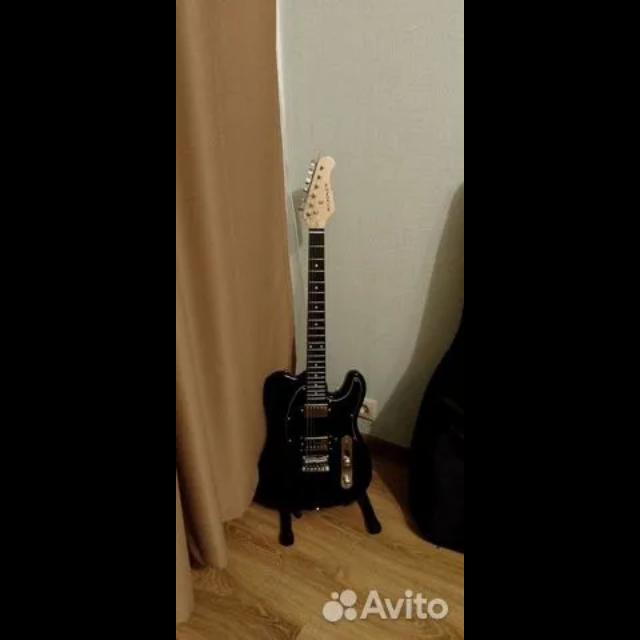Electric-Guitar: (260, 156, 372, 508)
